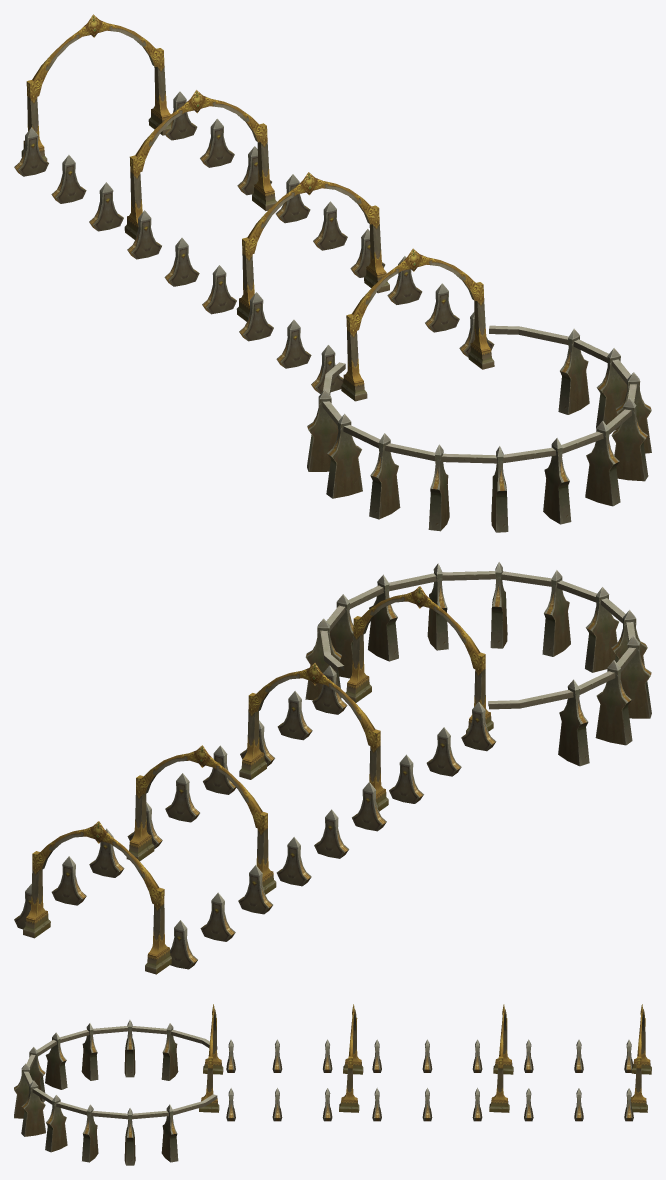
File: zc_lizhu_008.FBX
The picture shows the model from 3 angles, top to bottom: view 1: azimuth 30°, elevation 25°; view 2: azimuth 150°, elevation 25°; view 3: azimuth 270°, elevation 25°; orthographic projection. The views are drawn at different scales.
Parts seen in each view (by area): view 1: zc_lizhu_008; view 2: zc_lizhu_008; view 3: zc_lizhu_008.
Part boxes in pixels (bbox=[...]): zc_lizhu_008: bbox=[14, 14, 651, 532]; zc_lizhu_008: bbox=[14, 562, 651, 974]; zc_lizhu_008: bbox=[14, 1004, 651, 1165].
Bounding box in the file's own units: 1154 × 613 × 3171.
